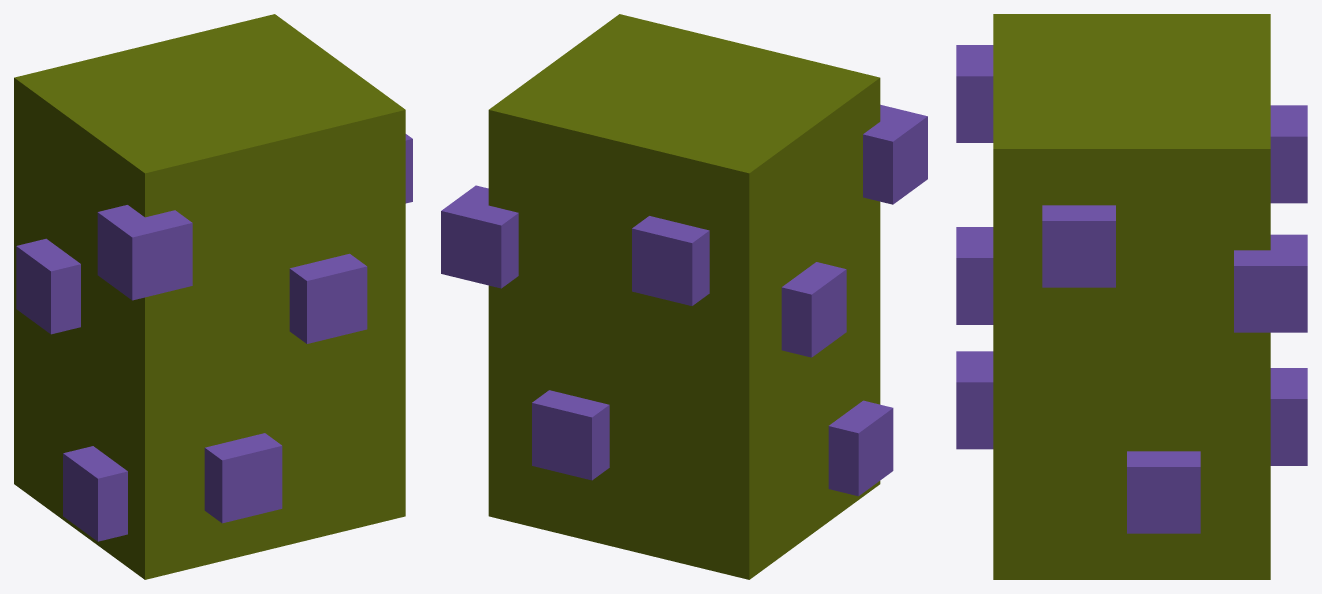
Rendered from FarmBushFruitViolet.fbx.
3 renders of one model, left to right at view 1: azimuth 30°, elevation 25°; view 2: azimuth 150°, elevation 25°; view 3: azimuth 270°, elevation 25°, orthographic. The views are drawn at different scales.
Visible parts, largest first — view 1: FarmBushFruitViolet; view 2: FarmBushFruitViolet; view 3: FarmBushFruitViolet.
Part boxes in pixels (bbox=[...]): FarmBushFruitViolet: bbox=[14, 14, 412, 579]; FarmBushFruitViolet: bbox=[441, 14, 927, 579]; FarmBushFruitViolet: bbox=[956, 14, 1307, 579].
Bounding box in the file's own units: 0.2949 × 0.3569 × 0.2636.
